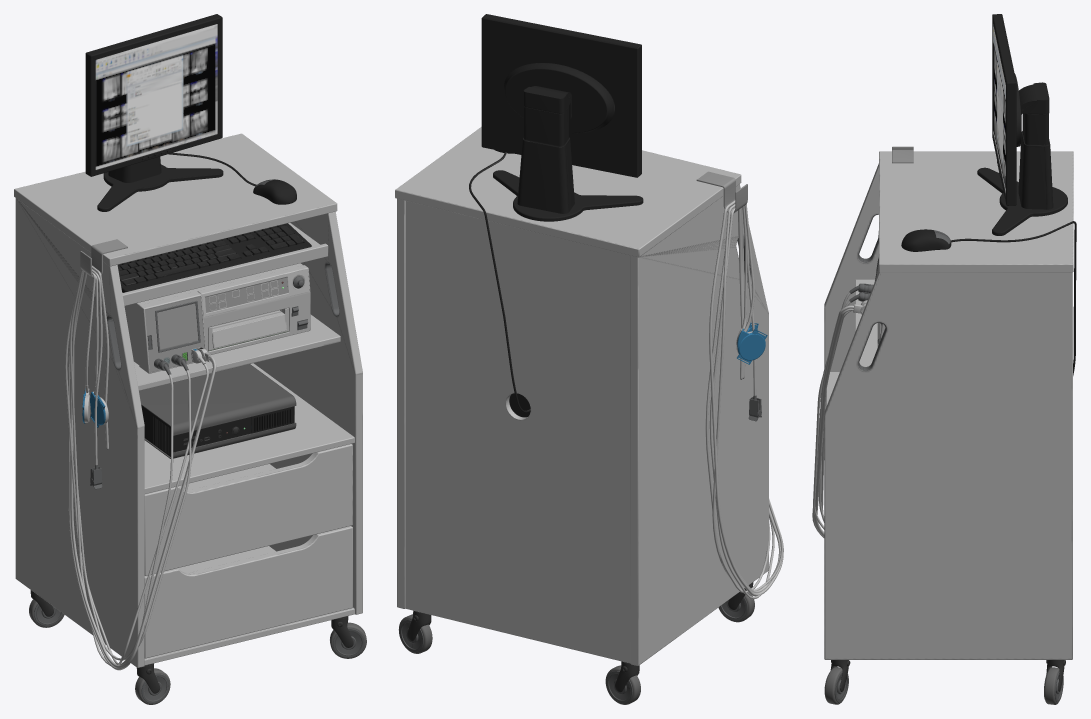
Rendered from vitals_monitor.fbx.
The picture shows the model from 3 angles, left to right: view 1: azimuth 30°, elevation 25°; view 2: azimuth 150°, elevation 25°; view 3: azimuth 270°, elevation 25°; orthographic projection. The views are drawn at different scales.
Parts seen in each view (by area): view 1: vitals_monitor; view 2: vitals_monitor; view 3: vitals_monitor.
Part boxes in pixels (box(x1,y1,x2,y2)): vitals_monitor: box(14, 14, 366, 704); vitals_monitor: box(395, 14, 783, 704); vitals_monitor: box(812, 14, 1076, 704).
Bounding box in the file's own units: 75.22 × 163 × 65.11.
1 material, 1 textured.
